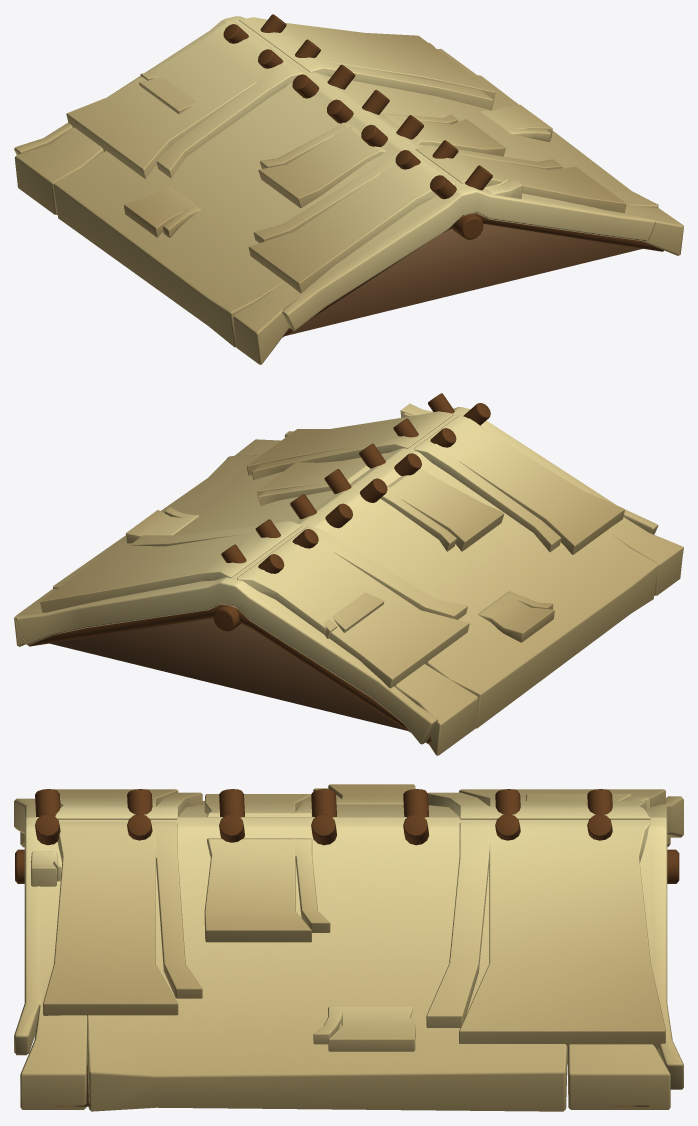
Rendered from SM_Clay_Roof_02.fbx.
The picture shows the model from 3 angles, top to bottom: view 1: azimuth 30°, elevation 25°; view 2: azimuth 150°, elevation 25°; view 3: azimuth 270°, elevation 25°; orthographic projection. The views are drawn at different scales.
Visible parts, largest first — view 1: SM_Clay_Roof_02; view 2: SM_Clay_Roof_02; view 3: SM_Clay_Roof_02.
Boxes of the visible parts, box(x1,y1,x2,y2) form: SM_Clay_Roof_02: box(14, 14, 683, 364); SM_Clay_Roof_02: box(14, 393, 683, 755); SM_Clay_Roof_02: box(14, 784, 683, 1111).
Size of the model in its own units: 2.02 by 0.618 by 2.04.
